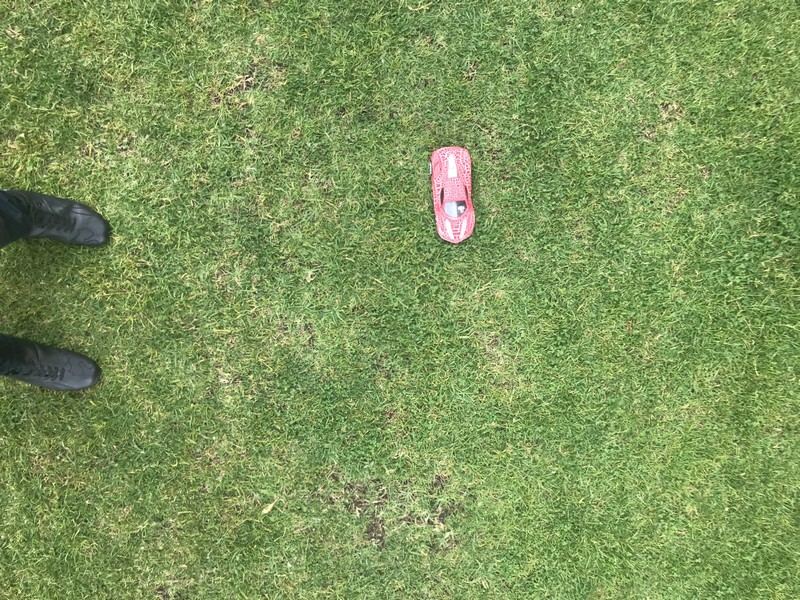RC: (427, 144, 479, 244)
